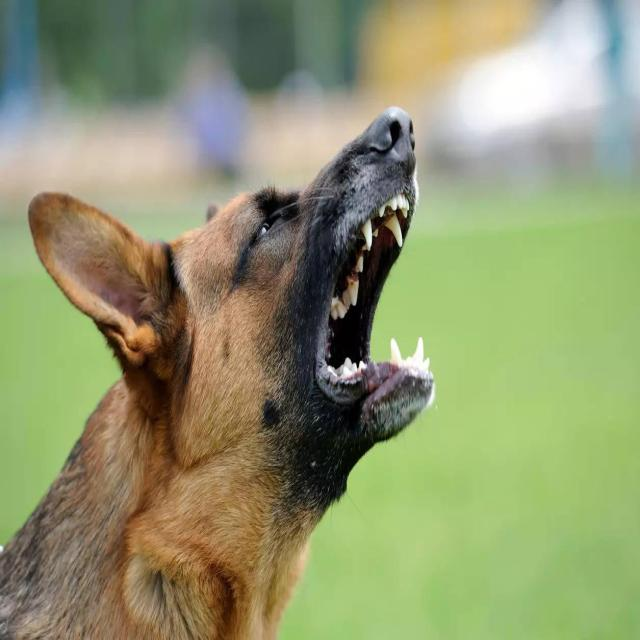Dog: (19, 93, 447, 481)
